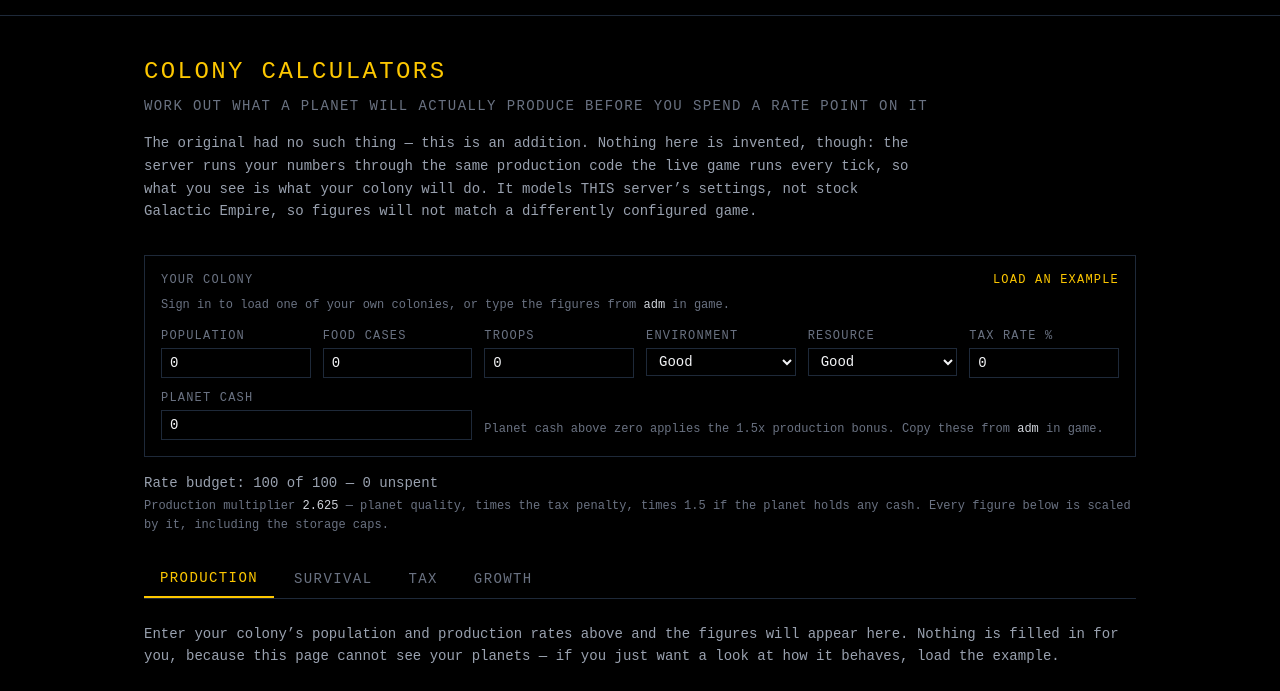
Calculators › puts the men rate on the growth tab, for the same reason
The image size is (1280, 691).
Expected: the text "Rate budget: 100 of 100 — 0 unspent" is shown, 144,474 -> 438,490
Click the button "Load an example" at (1056, 280), box 993,272 -> 1119,288
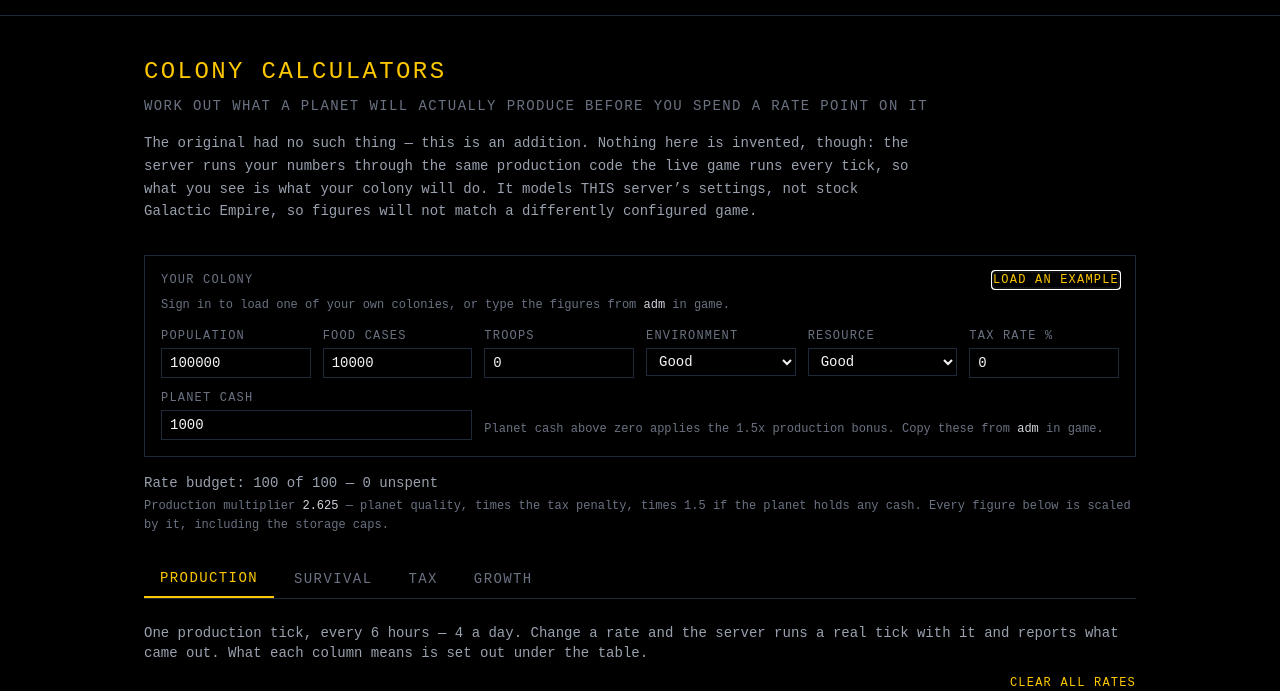
Expected: the text with test id "empty-prompt" is gone
Click the tab "Growth" at (503, 578), box 458,560 -> 549,598
(page scrolled)
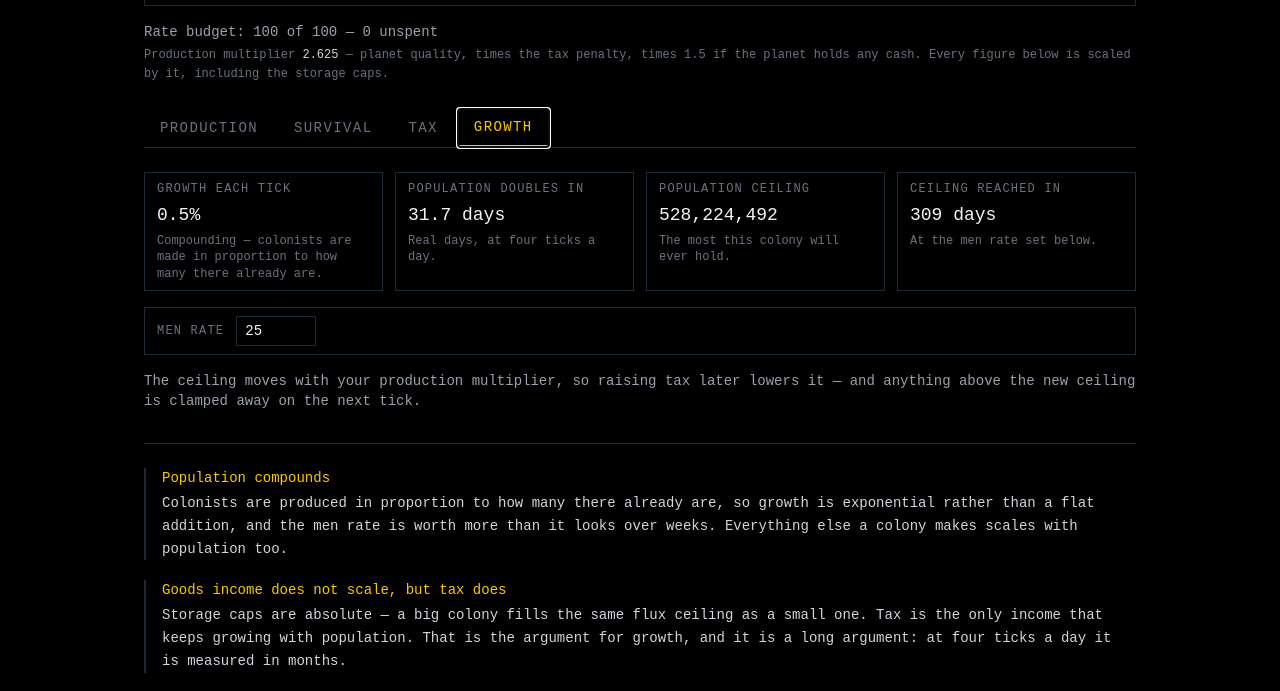
Expected: the number field labelled "Men rate" is shown, 236,316 -> 316,346
